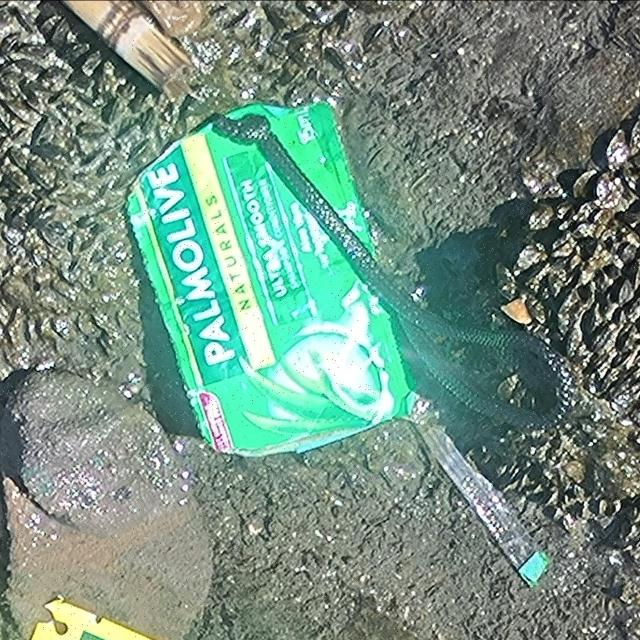plastic_waste: (124, 99, 416, 459)
